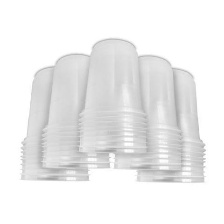glass: (16, 61, 95, 185), (36, 52, 116, 173), (131, 63, 207, 188), (73, 36, 149, 156), (110, 51, 184, 174)
